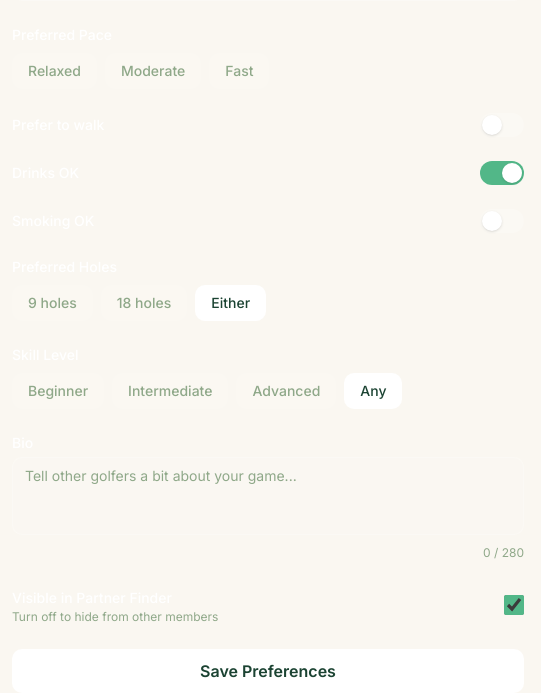
Scenario: PreferencesForm › character counter updates on bio input
(page scrolled)
Type "hello" into the text box labelled "Bio" at x=268, y=496, box [12,457,524,535]
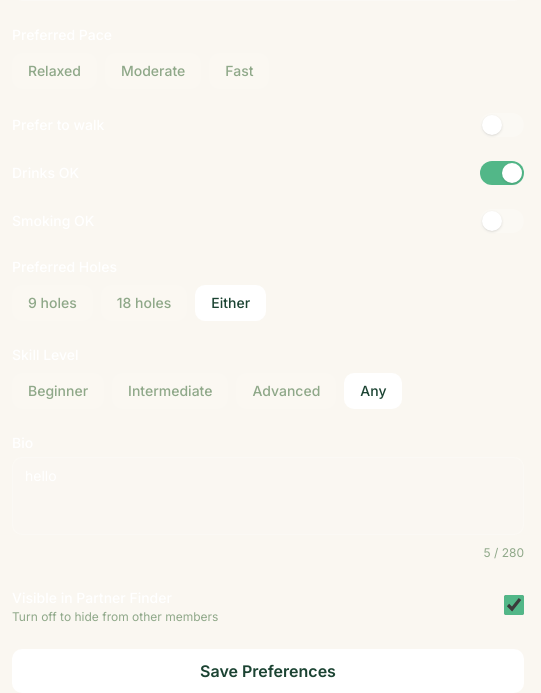
Expected: the text "5 / 280" is shown, [484,545,524,560]
